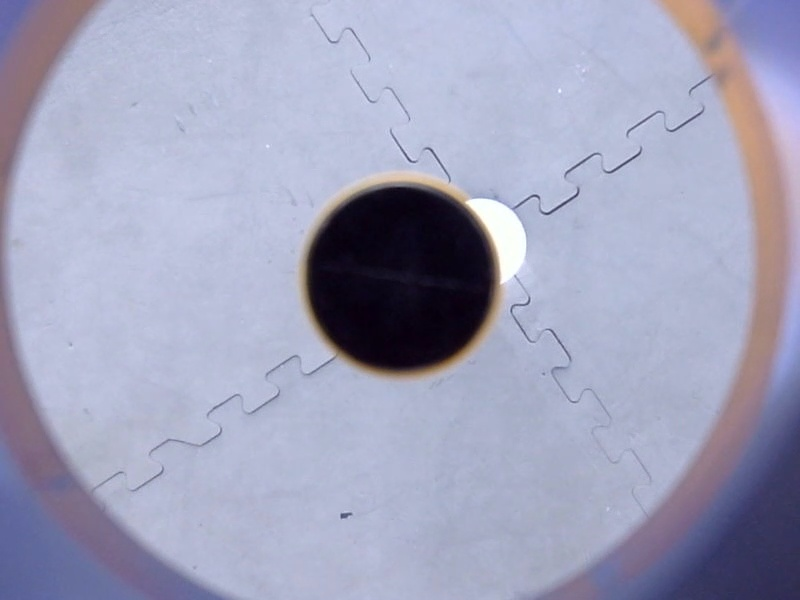tip: (286, 162, 521, 392)
